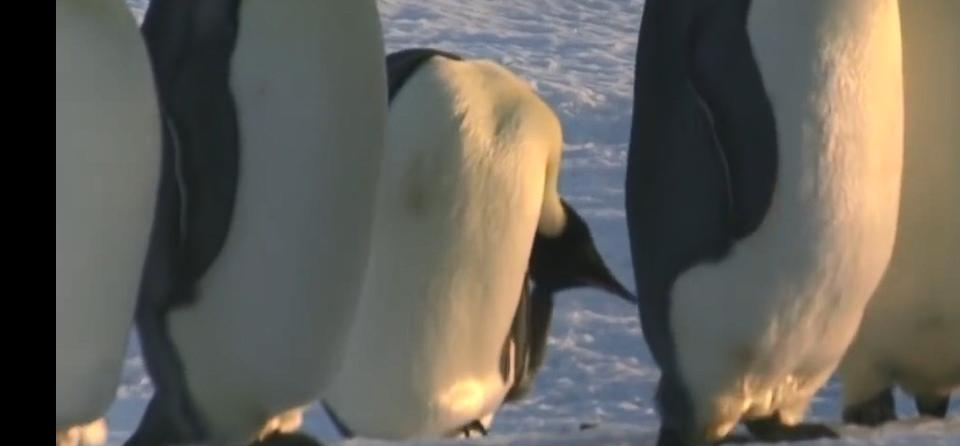Emperor Penguin: (610, 0, 907, 446), (135, 0, 403, 446), (352, 28, 626, 446), (846, 0, 960, 420), (58, 0, 142, 442)
